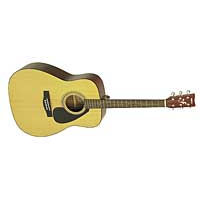guitar: (7, 62, 196, 137)
